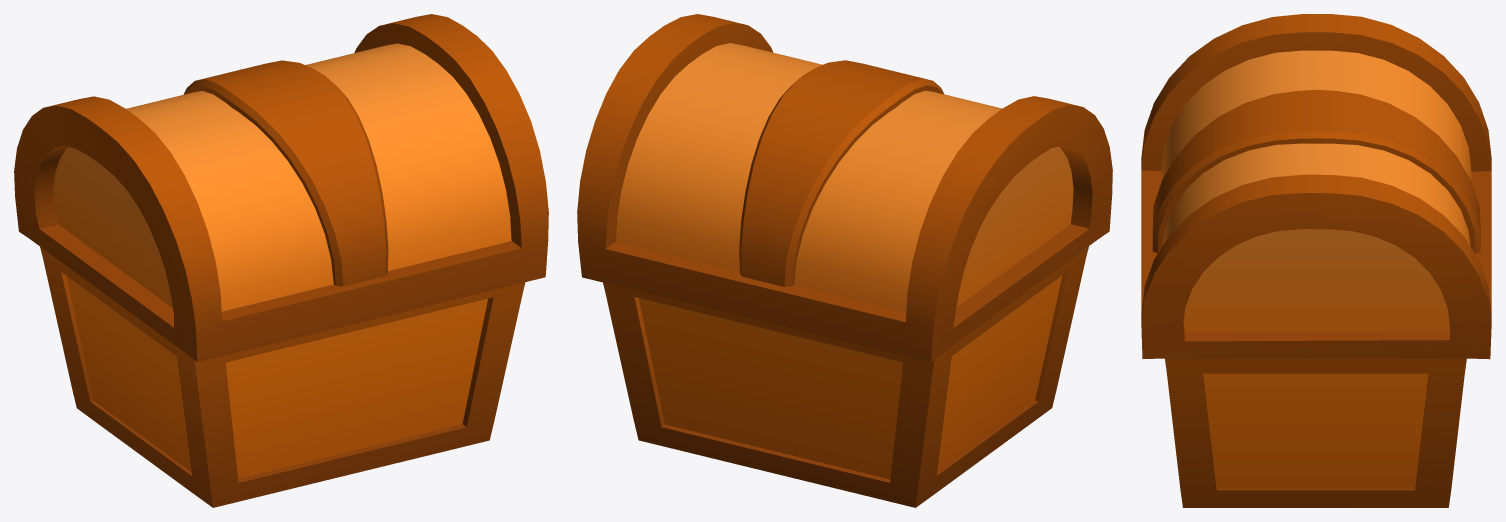
File: Collectable_Treasure_Cheast_01.fbx
The picture shows the model from 3 angles, left to right: view 1: azimuth 30°, elevation 25°; view 2: azimuth 150°, elevation 25°; view 3: azimuth 270°, elevation 25°; orthographic projection. The views are drawn at different scales.
Parts seen in each view (by area): view 1: Collectable_Treasure_Cheast_01; view 2: Collectable_Treasure_Cheast_01; view 3: Collectable_Treasure_Cheast_01.
Part boxes in pixels (bbox=[...]): Collectable_Treasure_Cheast_01: bbox=[14, 14, 548, 507]; Collectable_Treasure_Cheast_01: bbox=[577, 14, 1112, 507]; Collectable_Treasure_Cheast_01: bbox=[1141, 14, 1491, 507].
Bounding box in the file's own units: 59.28 × 52.19 × 48.96.
1 material, 1 textured.
